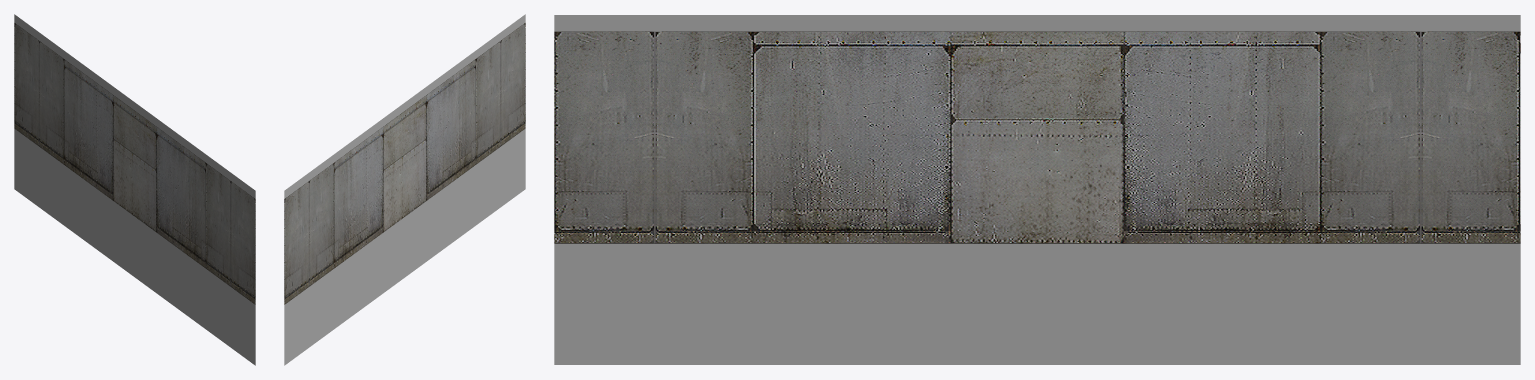
The model's file is Wall_A_Short2mts_03.fbx.
The picture shows the model from 3 angles, left to right: view 1: azimuth 30°, elevation 25°; view 2: azimuth 150°, elevation 25°; view 3: azimuth 270°, elevation 25°; orthographic projection. The views are drawn at different scales.
Visible parts, largest first — view 1: Wall_A_Short2mts_03; view 2: Wall_A_Short2mts_03; view 3: Wall_A_Short2mts_03.
Boxes of the visible parts, left/top/right/bottom form: Wall_A_Short2mts_03: left=14, top=14, right=255, bottom=365; Wall_A_Short2mts_03: left=284, top=14, right=525, bottom=365; Wall_A_Short2mts_03: left=554, top=15, right=1520, bottom=364.
Size of the model in its own units: 0.000157 by 200 by 500.
